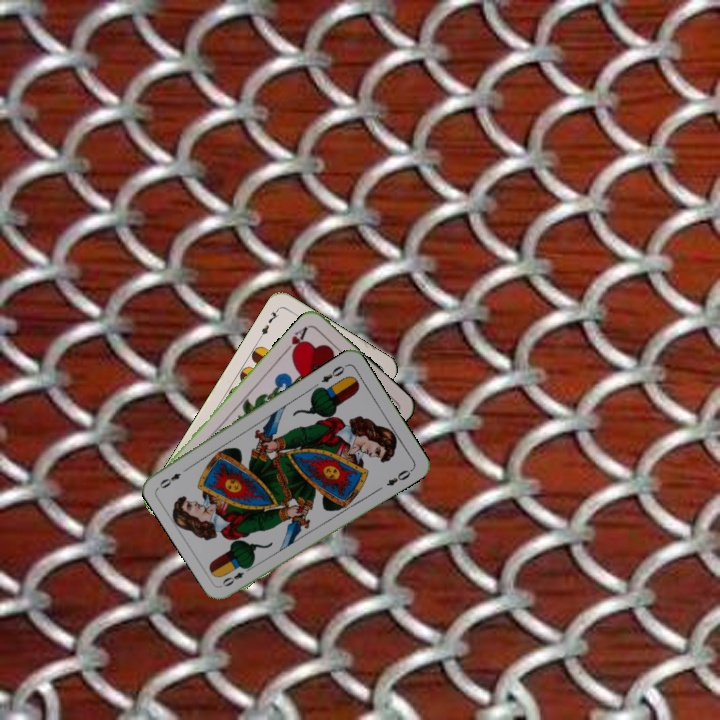E7: (255, 305, 282, 341)
EO: (218, 562, 255, 589), (317, 360, 350, 385)
HA: (281, 322, 312, 359)
